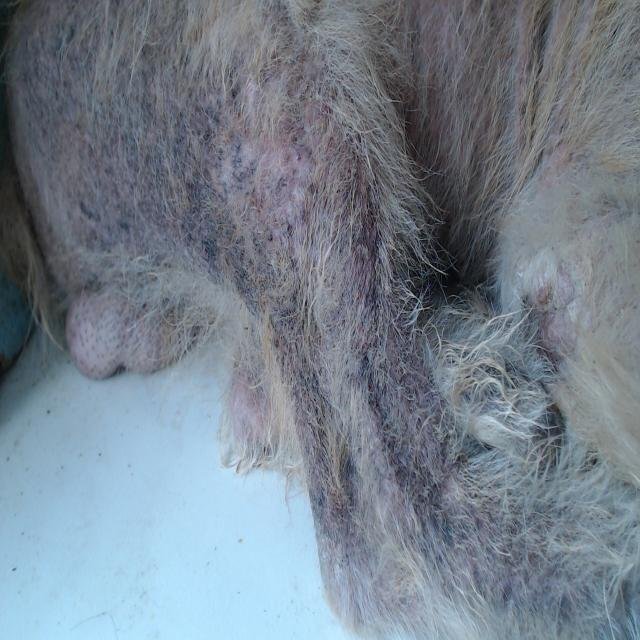demodicosis: (51, 53, 374, 283), (302, 305, 446, 561)
